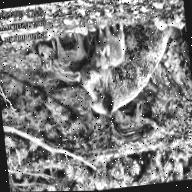boar: (72, 5, 186, 149), (83, 13, 135, 79)
